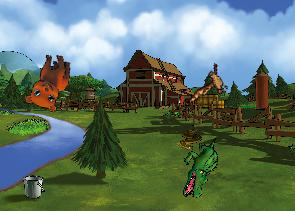bear: (23, 50, 72, 113)
crocodile: (182, 138, 218, 198)
eagle: (186, 58, 234, 113)
